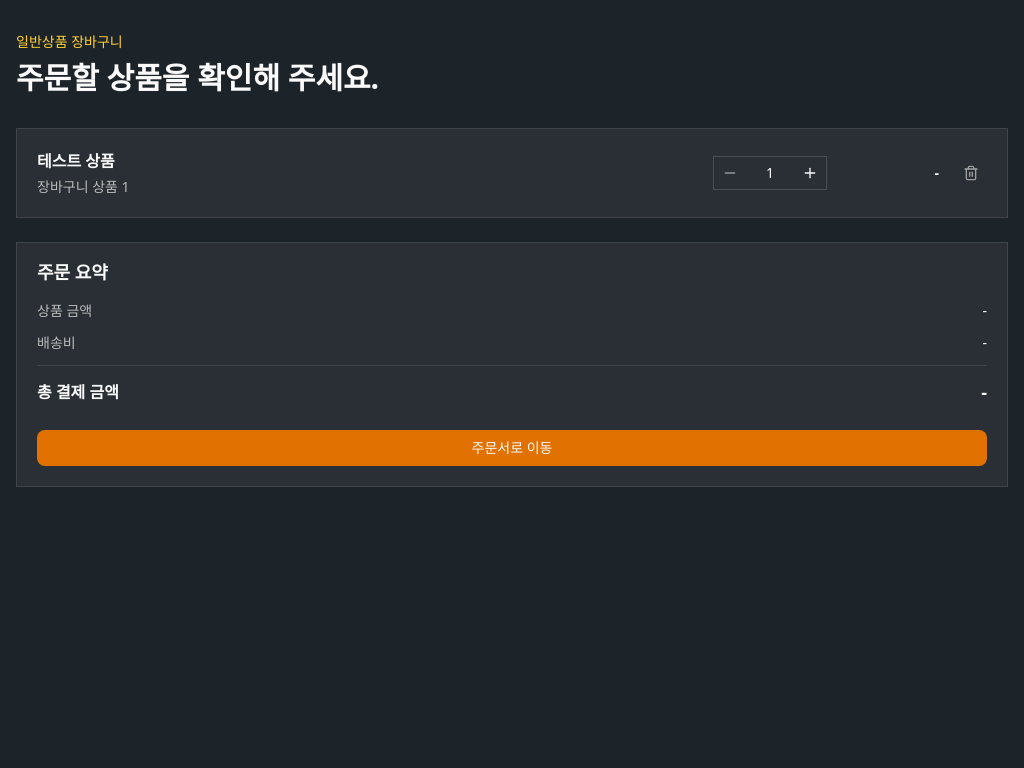
Test case: CartContent › announces action failures
This screenshot has width=1024, height=768.
Step 1. Click the button named "테스트 상품 삭제" → (971, 173), box [955,157,987,189]
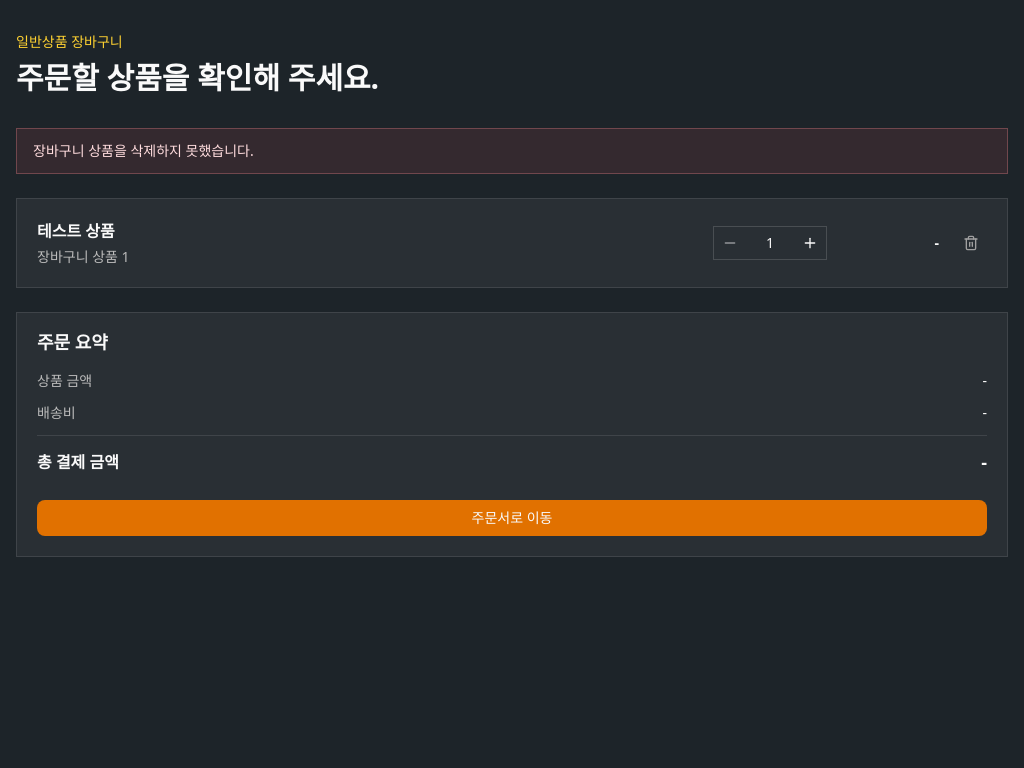
Expected: the message reads "장바구니 상품을 삭제하지 못했습니다.", [33,141,254,160]
